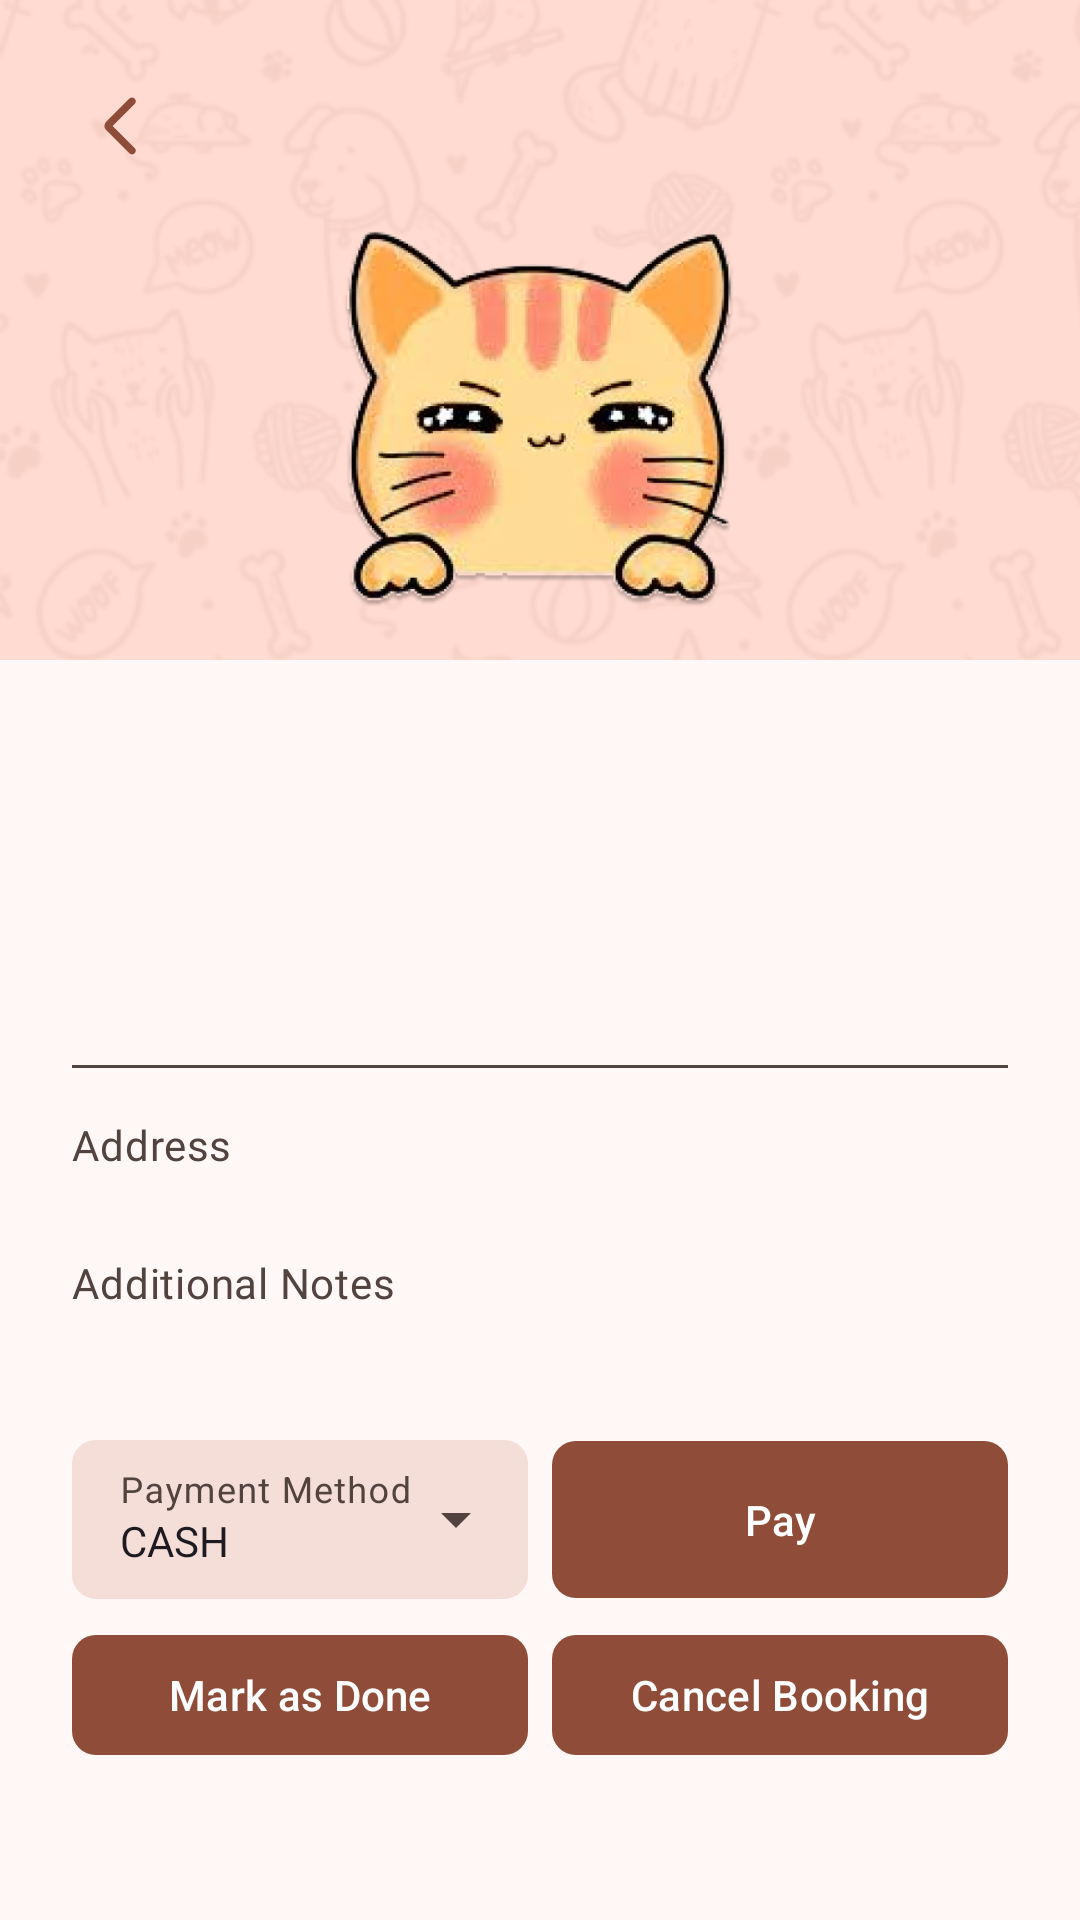

Named icons in this screenshot (1080*1920) and their bounding boxes, (x1, y1, x2, y2):
back: (104, 97, 136, 155)
